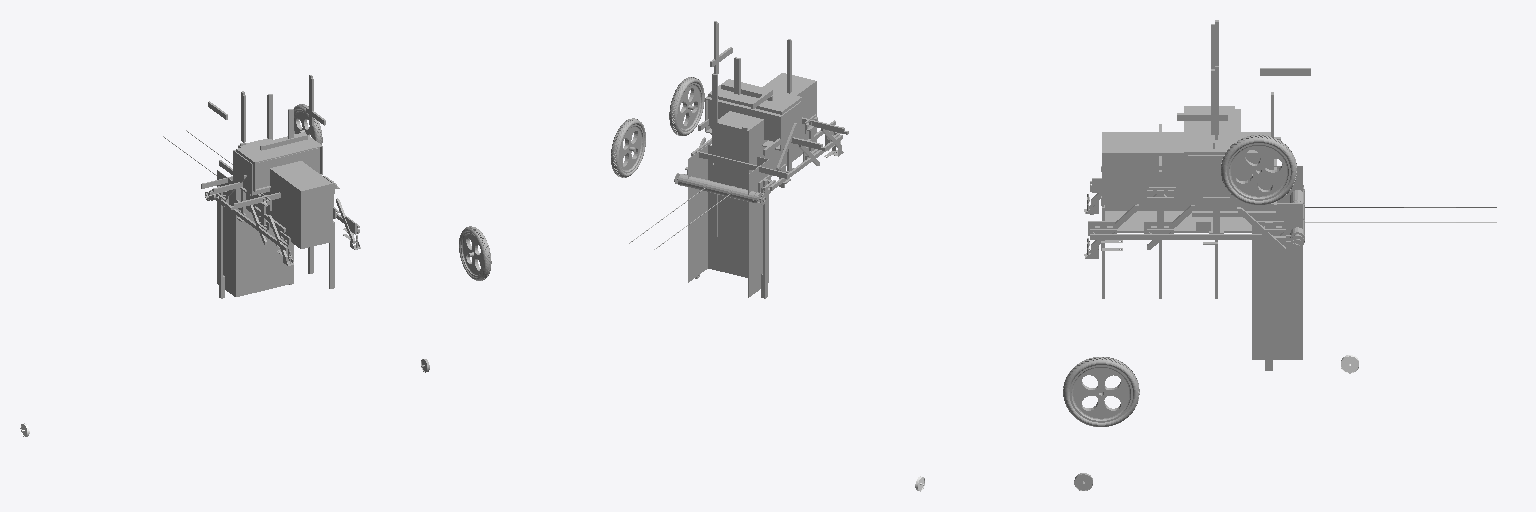
The robot description file, URDF, robot "igv_final_please":
<?xml version="1.0" encoding="utf-8"?>
<!-- This URDF was automatically created by SolidWorks to URDF Exporter! Originally created by [author] ([email redacted]) 
     Commit Version: 1.5.1-0-g916b5db  Build Version: 1.5.7152.31018
     For more information, please see http://wiki.ros.org/sw_urdf_exporter -->
<robot
  name="igv_final_please">
  <link
    name="base_link">
    <inertial>
      <origin
        xyz="0.590889009406364 -0.746383166579543 0.851044280532695"
        rpy="0 0 0" />
      <mass
        value="44.4579646133586" />
      <inertia
        ixx="2.8317115793364"
        ixy="6.48554599521391E-10"
        ixz="-7.74458447681979E-09"
        iyy="1.88451537995297"
        iyz="-0.00211942362107893"
        izz="2.52874495697593" />
    </inertial>
    <visual>
      <origin
        xyz="0 0 0"
        rpy="0 0 0" />
      <geometry>
        <mesh
          filename="package://igv_final_please/meshes/base_link.STL" />
      </geometry>
      <material
        name="">
        <color
          rgba="0.752941176470588 0.752941176470588 0.752941176470588 1" />
      </material>
    </visual>
    <collision>
      <origin
        xyz="0 0 0"
        rpy="0 0 0" />
      <geometry>
        <mesh
          filename="package://igv_final_please/meshes/base_link.STL" />
      </geometry>
    </collision>
  </link>
  <link
    name="wheel_L">
    <inertial>
      <origin
        xyz="-0.83677 -0.47294 0.17067"
        rpy="0 0 0" />
      <mass
        value="4.5297" />
      <inertia
        ixx="0.12385"
        ixy="-9.5165E-09"
        ixz="-3.0672E-08"
        iyy="0.062776"
        iyz="4.2824E-07"
        izz="0.062775" />
    </inertial>
    <visual>
      <origin
        xyz="0 0 0"
        rpy="0 0 0" />
      <geometry>
        <mesh
          filename="package://igv_final_please/meshes/wheel_L.STL" />
      </geometry>
      <material
        name="">
        <color
          rgba="0.75294 0.75294 0.75294 1" />
      </material>
    </visual>
    <collision>
      <origin
        xyz="0 0 0"
        rpy="0 0 0" />
      <geometry>
        <mesh
          filename="package://igv_final_please/meshes/wheel_L.STL" />
      </geometry>
    </collision>
  </link>
  <joint
    name="wheel_L"
    type="revolute">
    <origin
      xyz="0.16557 -0.28297 0.6883"
      rpy="-1.6617 0 3.1416" />
    <parent
      link="base_link" />
    <child
      link="wheel_L" />
    <axis
      xyz="1 0 0" />
    <limit
      lower="0"
      upper="0"
      effort="0"
      velocity="0" />
  </joint>
  <link
    name="wheel_R">
    <inertial>
      <origin
        xyz="-0.73872 -0.47294 0.17067"
        rpy="0 0 0" />
      <mass
        value="4.5297" />
      <inertia
        ixx="0.12385"
        ixy="-9.516E-09"
        ixz="-3.0673E-08"
        iyy="0.062776"
        iyz="4.2842E-07"
        izz="0.062775" />
    </inertial>
    <visual>
      <origin
        xyz="0 0 0"
        rpy="0 0 0" />
      <geometry>
        <mesh
          filename="package://igv_final_please/meshes/wheel_R.STL" />
      </geometry>
      <material
        name="">
        <color
          rgba="0.75294 0.75294 0.75294 1" />
      </material>
    </visual>
    <collision>
      <origin
        xyz="0 0 0"
        rpy="0 0 0" />
      <geometry>
        <mesh
          filename="package://igv_final_please/meshes/wheel_R.STL" />
      </geometry>
    </collision>
  </link>
  <joint
    name="wheel_R"
    type="revolute">
    <origin
      xyz="0.95962 -0.28297 0.6883"
      rpy="-2.7498 0 0" />
    <parent
      link="base_link" />
    <child
      link="wheel_R" />
    <axis
      xyz="-1 0 0" />
    <limit
      lower="0"
      upper="0"
      effort="0"
      velocity="0" />
  </joint>
  <link
    name="caster_R">
    <inertial>
      <origin
        xyz="-0.58 -1.0442 -0.0048457"
        rpy="0 0 0" />
      <mass
        value="0.058308" />
      <inertia
        ixx="8.2551E-05"
        ixy="-7.3389E-23"
        ixz="-5.7753E-21"
        iyy="4.3819E-05"
        iyz="-7.9409E-23"
        izz="4.3819E-05" />
    </inertial>
    <visual>
      <origin
        xyz="0 0 0"
        rpy="0 0 0" />
      <geometry>
        <mesh
          filename="package://igv_final_please/meshes/caster_R.STL" />
      </geometry>
      <material
        name="">
        <color
          rgba="0.75294 0.75294 0.75294 1" />
      </material>
    </visual>
    <collision>
      <origin
        xyz="0 0 0"
        rpy="0 0 0" />
      <geometry>
        <mesh
          filename="package://igv_final_please/meshes/caster_R.STL" />
      </geometry>
    </collision>
  </link>
  <joint
    name="caster_R"
    type="revolute">
    <origin
      xyz="0.90162 -1.4654 0.51534"
      rpy="1.5615 0 3.1416" />
    <parent
      link="base_link" />
    <child
      link="caster_R" />
    <axis
      xyz="-1 0 0" />
    <limit
      lower="0"
      upper="0"
      effort="0"
      velocity="0" />
  </joint>
  <link
    name="caster_L">
    <inertial>
      <origin
        xyz="0 0 0"
        rpy="0 0 0" />
      <mass
        value="0" />
      <inertia
        ixx="0"
        ixy="0"
        ixz="0"
        iyy="0"
        iyz="0"
        izz="0" />
    </inertial>
    <visual>
      <origin
        xyz="0 0 0"
        rpy="0 0 0" />
      <geometry>
        <mesh
          filename="package://igv_final_please/meshes/caster_L.STL" />
      </geometry>
      <material
        name="">
        <color
          rgba="1 1 1 1" />
      </material>
    </visual>
    <collision>
      <origin
        xyz="0 0 0"
        rpy="0 0 0" />
      <geometry>
        <mesh
          filename="package://igv_final_please/meshes/caster_L.STL" />
      </geometry>
    </collision>
  </link>
  <joint
    name="caster_L"
    type="revolute">
    <origin
      xyz="0.32162 -1.4653 0.51534"
      rpy="1.5615 0 3.1416" />
    <parent
      link="base_link" />
    <child
      link="caster_L" />
    <axis
      xyz="1 0 0" />
    <limit
      lower="0"
      upper="0"
      effort="0"
      velocity="0" />
  </joint>
</robot>

--- Render facts (derived) ---
Views: 3 orthographic renders of the robot side by side, from view 1: azimuth 30°, elevation 25°; view 2: azimuth 150°, elevation 25°; view 3: azimuth 270°, elevation 25°.
Robot: igv_final_please — 5 links, 4 joints (4 revolute); root link base_link; default pose: every joint at zero.
Links seen in each view (by area): view 1: base_link, wheel_R, wheel_L; view 2: base_link, wheel_L, wheel_R; view 3: base_link, wheel_R, wheel_L.
Link boxes in pixels (left/top/right/bottom): base_link: left=163, top=75, right=360, bottom=298; wheel_R: left=459, top=226, right=491, bottom=280; wheel_L: left=294, top=104, right=322, bottom=144; base_link: left=629, top=21, right=848, bottom=298; wheel_L: left=669, top=77, right=704, bottom=135; wheel_R: left=611, top=118, right=645, bottom=177; base_link: left=1084, top=20, right=1496, bottom=370; wheel_R: left=1063, top=357, right=1139, bottom=426; wheel_L: left=1221, top=135, right=1296, bottom=204.
Size in the robot's own frame: 3.2 by 2.39 by 2.82 metres.
5 mesh visuals loaded from 5 distinct referenced files (5 binary STL).